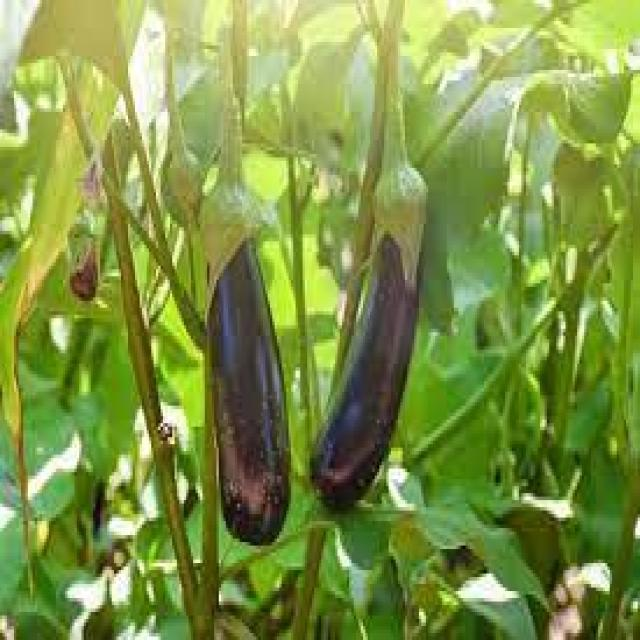Eggplant: (310, 71, 432, 512), (200, 91, 296, 545), (74, 437, 110, 543), (65, 214, 105, 306)
